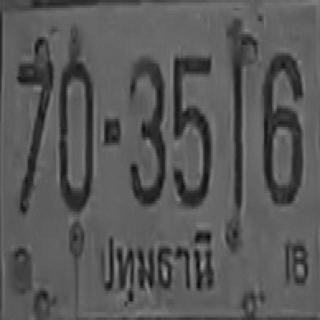N00: (58, 52, 92, 210)
N01: (225, 59, 245, 209)
N03: (127, 54, 165, 205)
N05: (172, 53, 211, 206)
N06: (261, 50, 303, 204)
N07: (16, 49, 54, 213)
P38: (89, 216, 226, 302)
